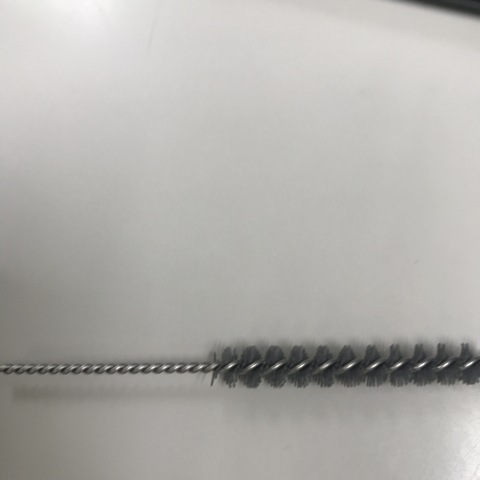Twist Brush-A: (9, 341, 475, 389)
